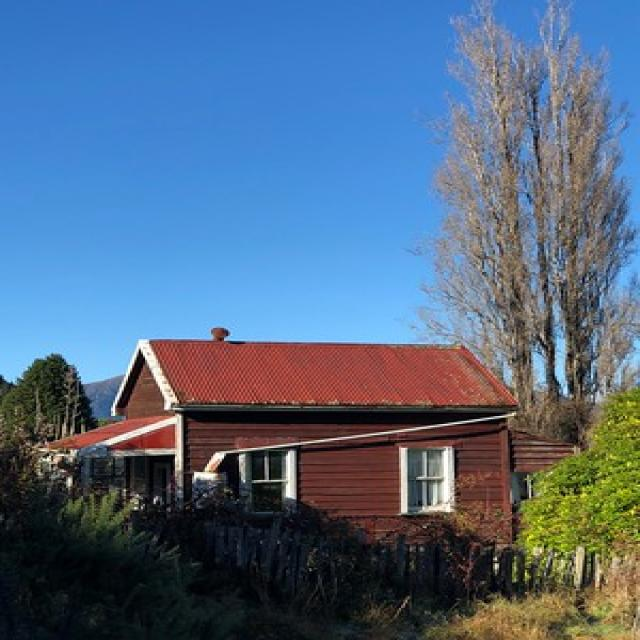building: (46, 334, 519, 581)
